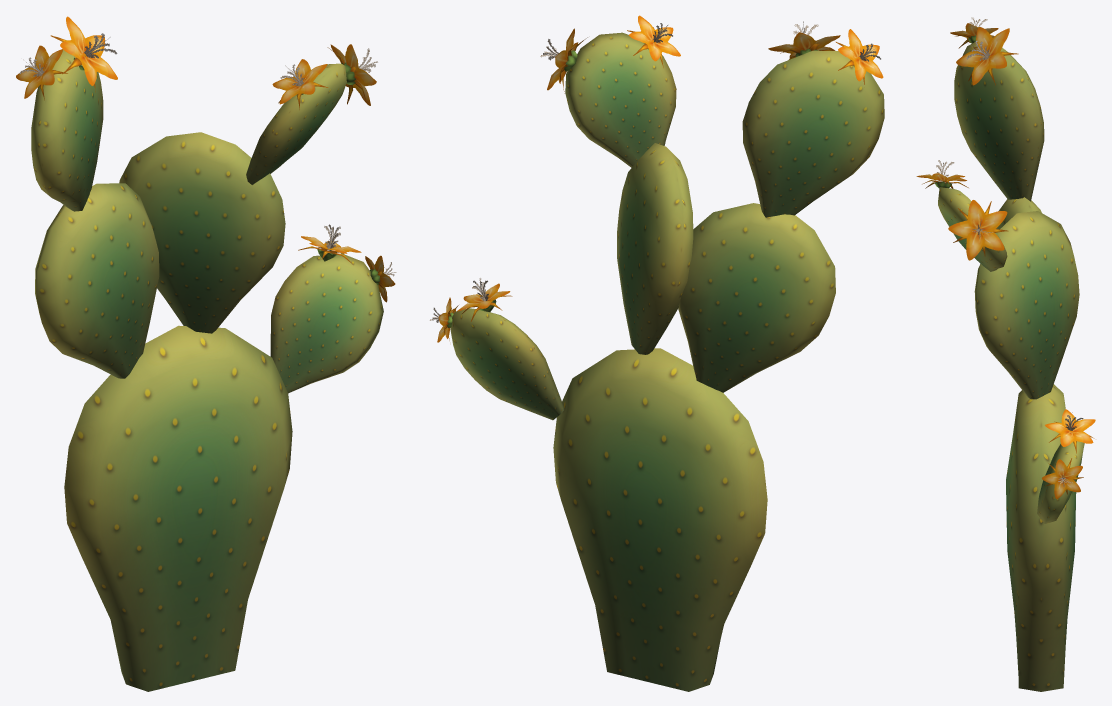
File: Ctn_flatCactus_01_v03_flowers.FBX
The picture shows the model from 3 angles, left to right: view 1: azimuth 30°, elevation 25°; view 2: azimuth 150°, elevation 25°; view 3: azimuth 270°, elevation 25°; orthographic projection. The views are drawn at different scales.
Visible parts, largest first — view 1: Ctn_flatCactus_01_v03_flowers; view 2: Ctn_flatCactus_01_v03_flowers; view 3: Ctn_flatCactus_01_v03_flowers.
Boxes of the visible parts, x1,y1,x2,y2 form: Ctn_flatCactus_01_v03_flowers: (16,16,396,691); Ctn_flatCactus_01_v03_flowers: (429,15,884,691); Ctn_flatCactus_01_v03_flowers: (916,17,1095,691).
Bounding box in the file's own units: 74.64 × 116 × 32.81.
